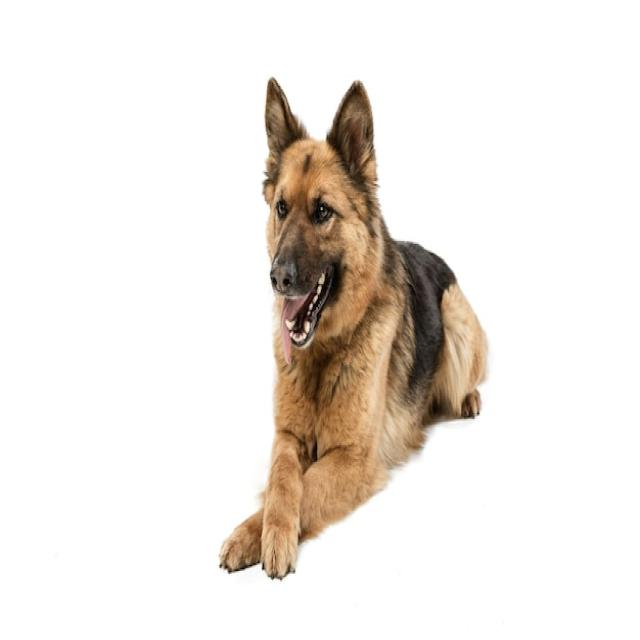Dog: (220, 75, 489, 581)
